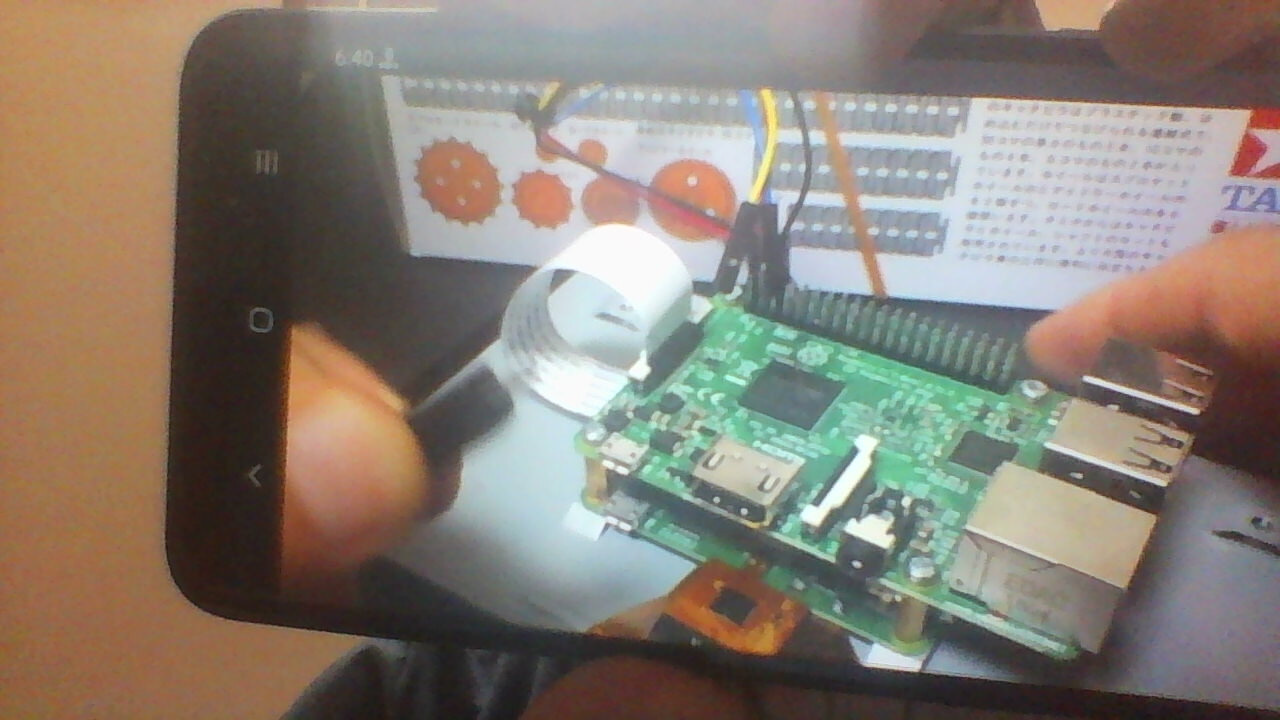aud: (841, 476, 917, 591)
eth: (966, 465, 1151, 664)
usb: (1082, 359, 1216, 461)
